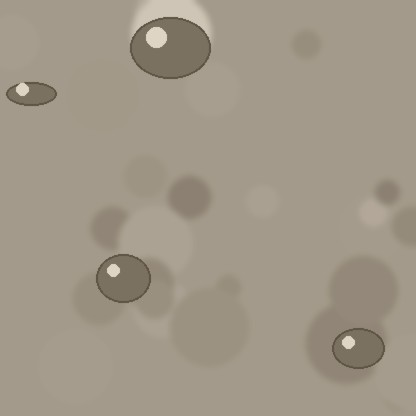gota: (130, 19, 210, 83), (96, 256, 150, 306), (332, 330, 384, 372), (6, 83, 56, 107)
